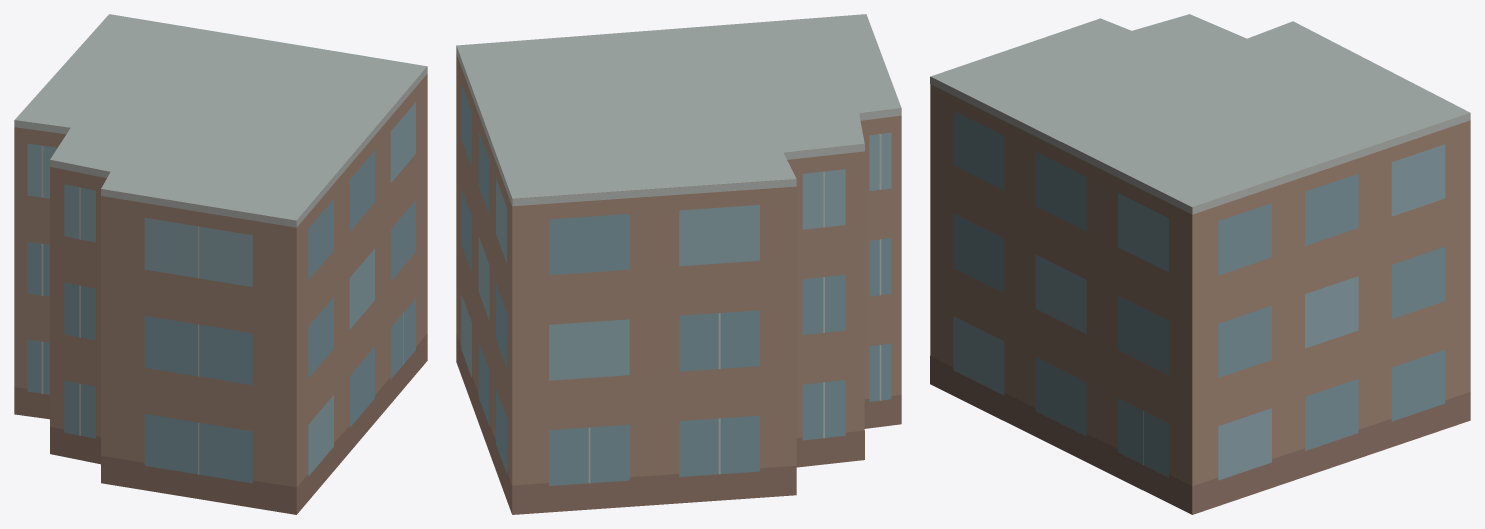
Rendered from survey-upis-32901249.glb.
3 renders of one model, left to right at view 1: azimuth 30°, elevation 25°; view 2: azimuth 150°, elevation 25°; view 3: azimuth 270°, elevation 25°, orthographic. The views are drawn at different scales.
Parts seen in each view (by area): view 1: survey-upis-32901249.tmp; view 2: survey-upis-32901249.tmp; view 3: survey-upis-32901249.tmp.
Boxes of the visible parts, <box> form: survey-upis-32901249.tmp: <box>14,14,427,514</box>; survey-upis-32901249.tmp: <box>456,14,901,514</box>; survey-upis-32901249.tmp: <box>930,14,1470,514</box>.
Bounding box in the file's own units: 13.61 × 10.1 × 16.09.
